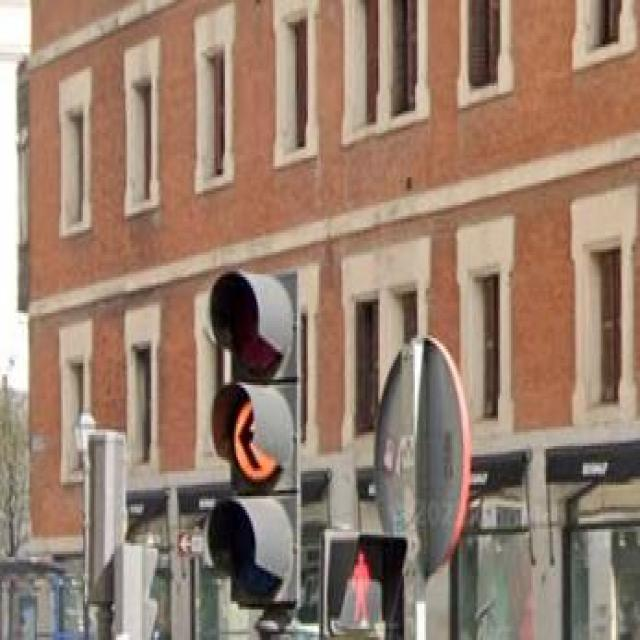yellow_light: (210, 270, 296, 602)
